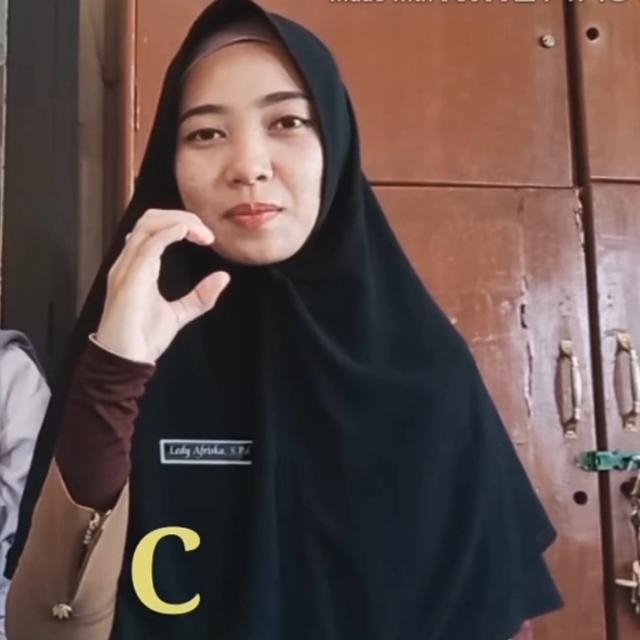C: (96, 207, 234, 363)
